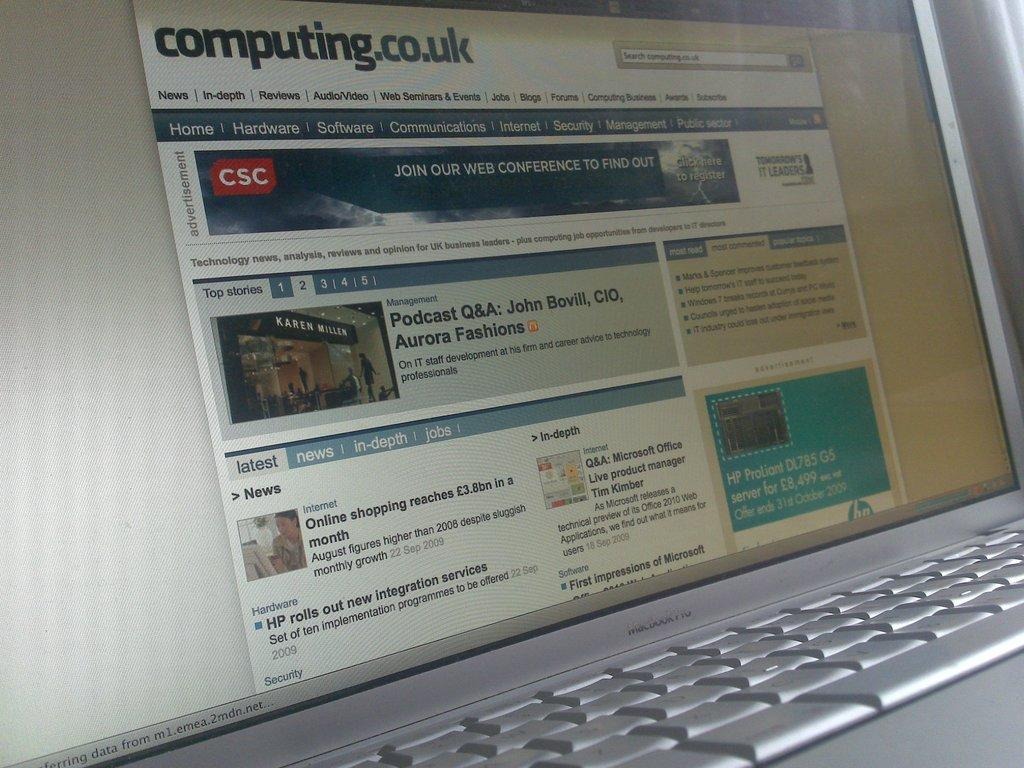Laptop: (100, 17, 1024, 768)
